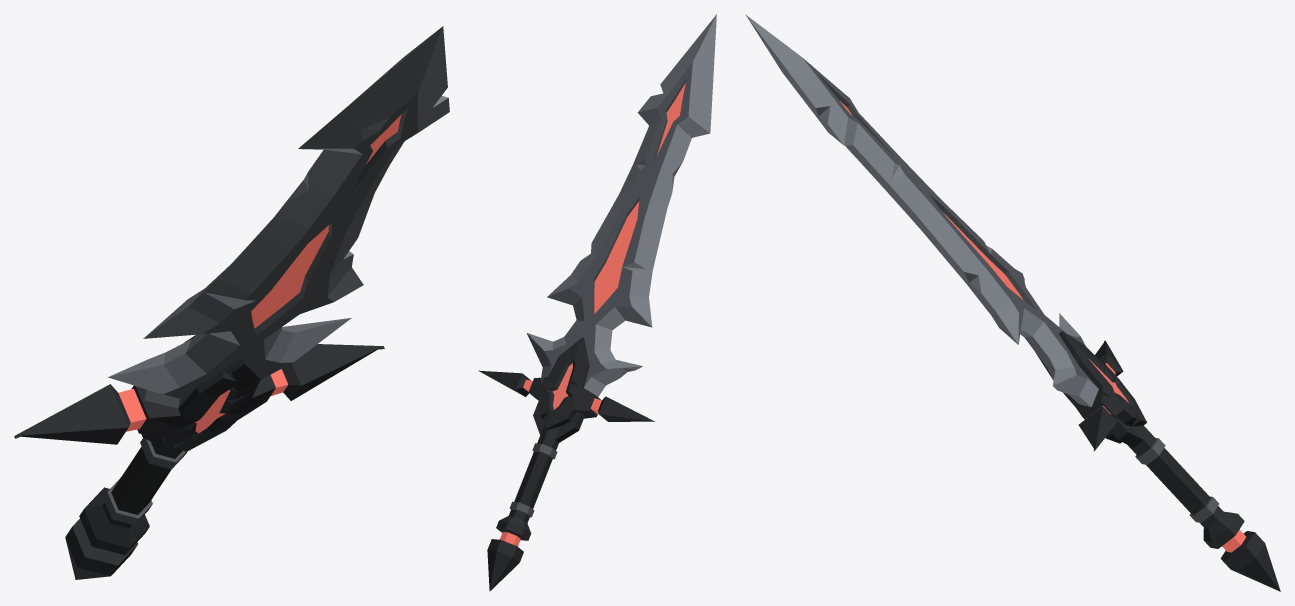
Rendered from dr-sword-large-11.glb.
3 renders of one model, left to right at view 1: azimuth 30°, elevation 25°; view 2: azimuth 150°, elevation 25°; view 3: azimuth 270°, elevation 25°, orthographic. The views are drawn at different scales.
Parts seen in each view (by area): view 1: dr-sword-large-11; view 2: dr-sword-large-11; view 3: dr-sword-large-11.
Boxes of the visible parts, left/top/right/bottom form: dr-sword-large-11: left=14, top=26, right=449, bottom=579; dr-sword-large-11: left=478, top=14, right=716, bottom=591; dr-sword-large-11: left=745, top=14, right=1280, bottom=591.
Size of the model in its own units: 0.594 by 1.36 by 1.17.
1 material, 1 textured.
